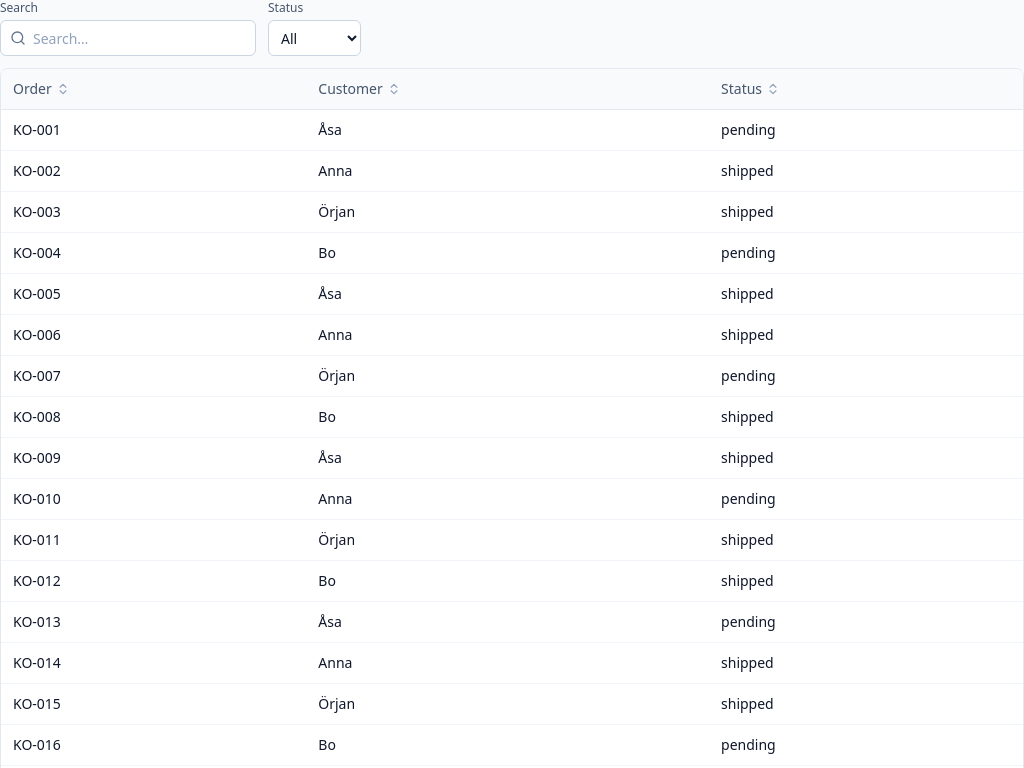
Test: DataTable › says so when nothing matches
Type "nothing like this" into the search field labelled "Search".
click(128, 38); type("nothing like this")  # box [0,20,256,56]
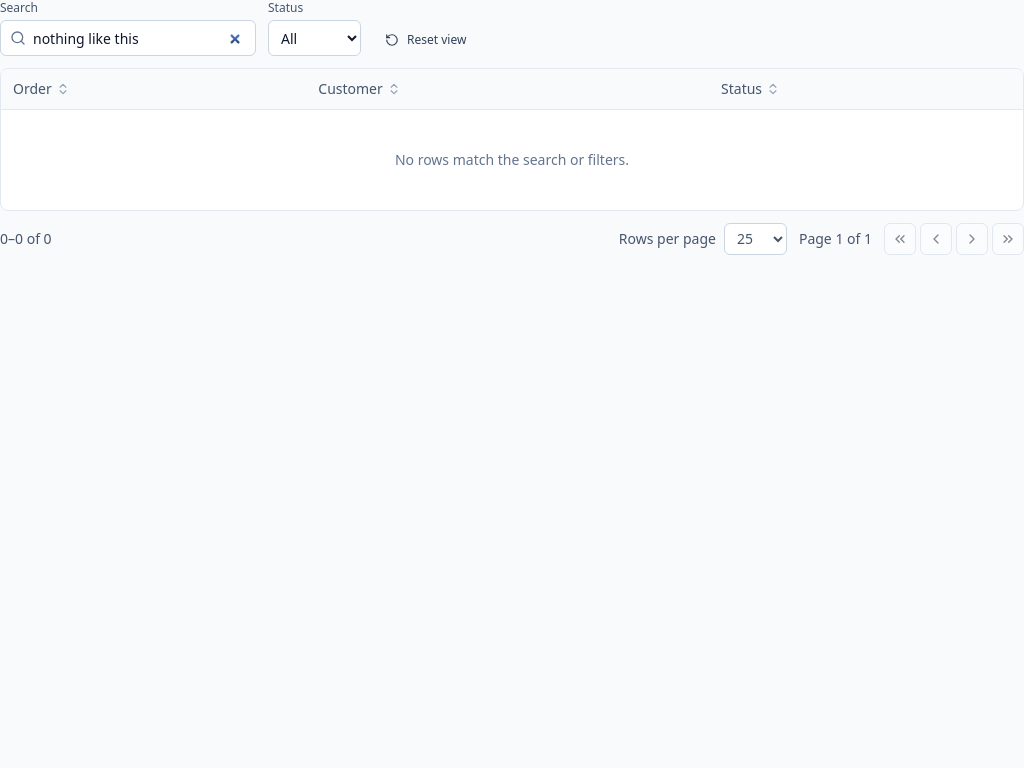
Expected: the text "No rows match the search or filters." is shown, [1,110,1023,210]
